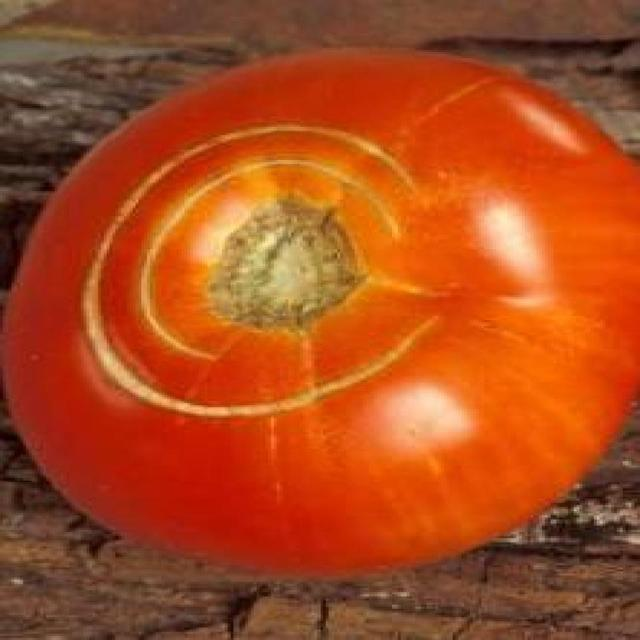Cracking Fruit: (51, 80, 311, 282)
